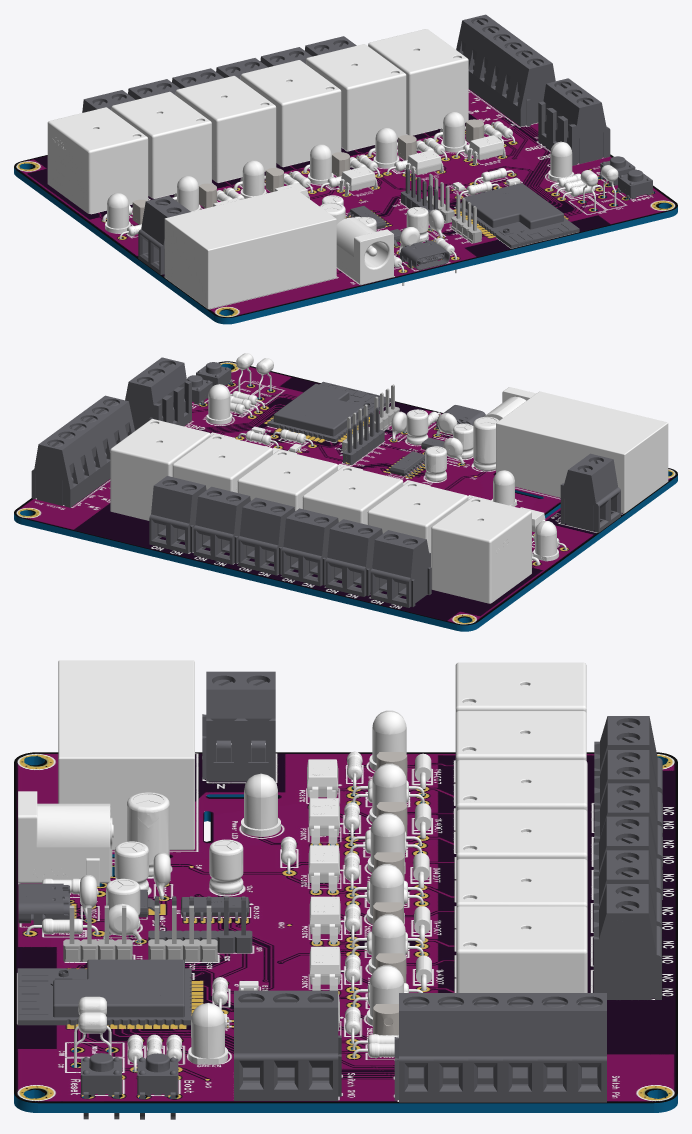
The picture shows the model from 3 angles, top to bottom: view 1: azimuth 30°, elevation 25°; view 2: azimuth 150°, elevation 25°; view 3: azimuth 270°, elevation 25°; orthographic projection. The views are drawn at different scales.
Parts seen in each view (by area): view 1: Board-mesh, U11-mesh, RLY1-mesh, CN4-mesh (×6), RLY4-mesh, RLY5-mesh, RLY3-mesh, RLY2-mesh, RLY6-mesh, U9-mesh, CN2-mesh, 5V-mesh (+22 smaller); view 2: Board-mesh, U11-mesh, RLY1-mesh, CN4-mesh (×6), RLY6-mesh, U9-mesh, P12-mesh, P6-mesh, RLY2-mesh, RLY4-mesh, RLY3-mesh, RLY5-mesh (+19 smaller); view 3: Board-mesh, CN4-mesh (×6), U11-mesh, RLY6-mesh, CN2-mesh, U9-mesh, P6-mesh, 5V-mesh, P17-mesh, RLY2-mesh, RLY4-mesh, RLY3-mesh (+34 smaller).
Boxes of the visible parts, x1,y1,x2,y2 form: Board-mesh: [14, 89, 677, 324]; U11-mesh: [164, 187, 336, 309]; RLY1-mesh: [47, 107, 148, 213]; CN4-mesh (×6): [456, 14, 555, 126]; RLY4-mesh: [240, 60, 341, 166]; RLY5-mesh: [306, 44, 406, 150]; RLY3-mesh: [175, 76, 276, 182]; RLY2-mesh: [111, 91, 211, 198]; RLY6-mesh: [368, 29, 468, 135]; U9-mesh: [455, 183, 579, 248]; CN2-mesh: [538, 78, 610, 165]; 5V-mesh: [336, 217, 393, 284]; Board-mesh: [14, 361, 677, 631]; U11-mesh: [496, 391, 668, 513]; RLY1-mesh: [431, 497, 531, 603]; CN4-mesh (×6): [31, 395, 134, 507]; RLY6-mesh: [110, 419, 210, 520]; U9-mesh: [267, 381, 390, 442]; P12-mesh: [370, 530, 431, 607]; P6-mesh: [560, 453, 620, 532]; RLY2-mesh: [367, 481, 468, 567]; RLY4-mesh: [237, 450, 337, 510]; RLY3-mesh: [302, 466, 403, 524]; RLY5-mesh: [172, 434, 272, 492]; Board-mesh: [14, 752, 677, 1112]; CN4-mesh (×6): [394, 993, 606, 1102]; U11-mesh: [58, 660, 194, 850]; RLY6-mesh: [456, 906, 587, 992]; CN2-mesh: [234, 990, 341, 1100]; U9-mesh: [17, 959, 191, 1025]; P6-mesh: [202, 671, 275, 781]; 5V-mesh: [18, 791, 113, 886]; P17-mesh: [593, 884, 661, 999]; RLY2-mesh: [455, 711, 586, 851]; RLY4-mesh: [456, 809, 587, 861]; RLY3-mesh: [456, 760, 587, 812].
Size of the model in its own units: 0.1216 by 0.0198 by 0.0973.
7 materials, 2 textured.
